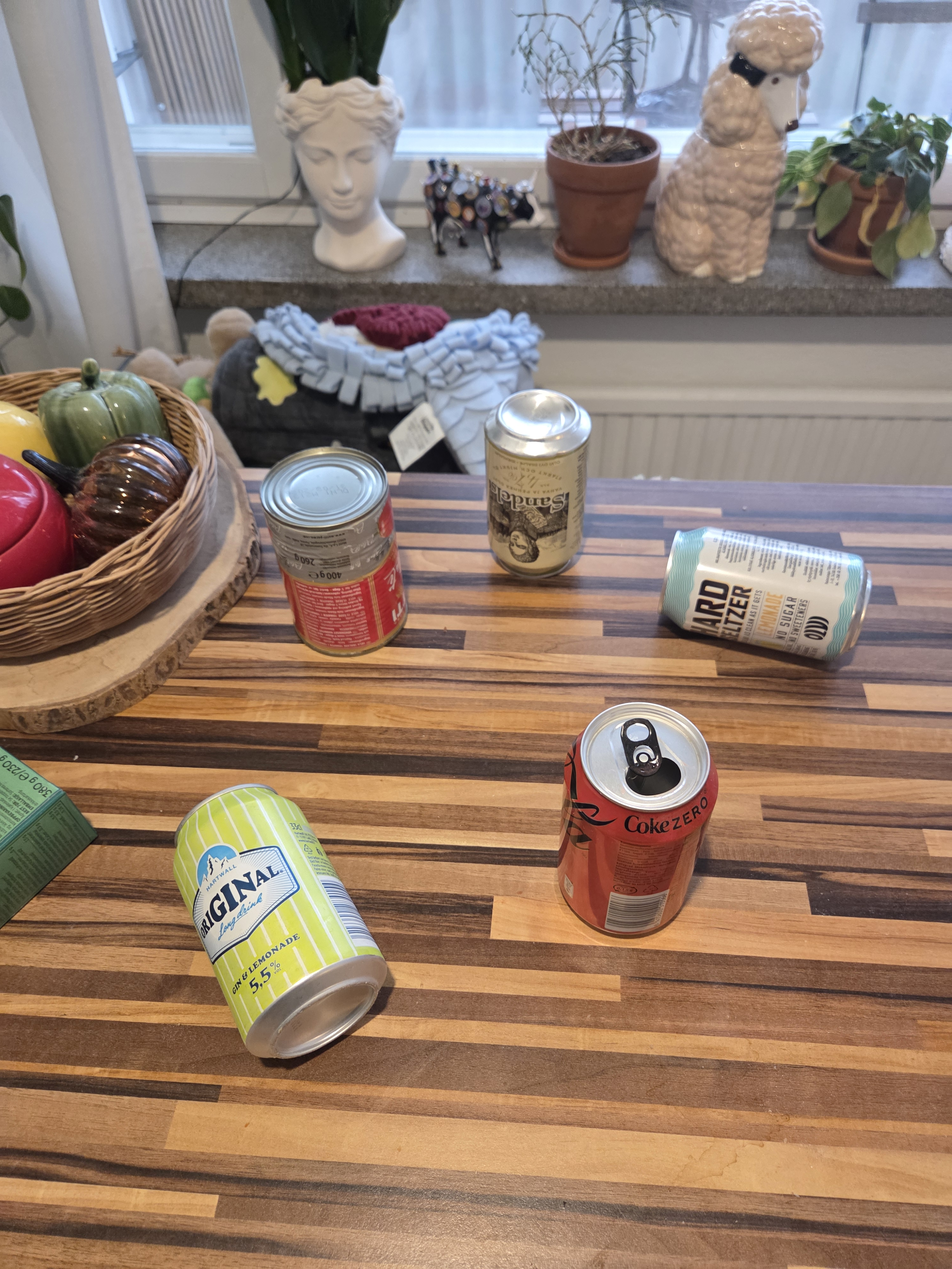Konservburk: (259, 446, 410, 657)
Pantburk: (170, 782, 389, 1061), (556, 702, 720, 937), (659, 524, 874, 664), (483, 388, 593, 581)
